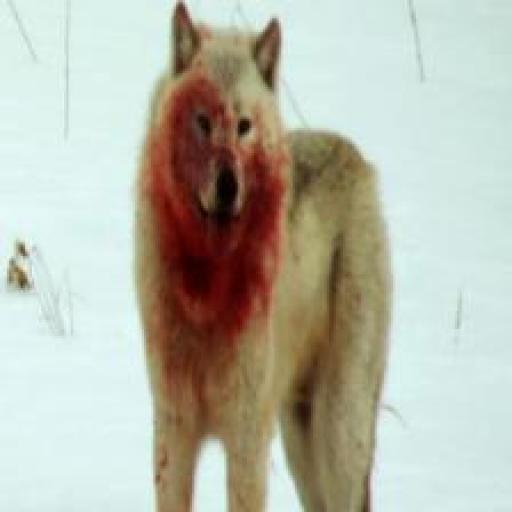wolf: (132, 0, 396, 512)
